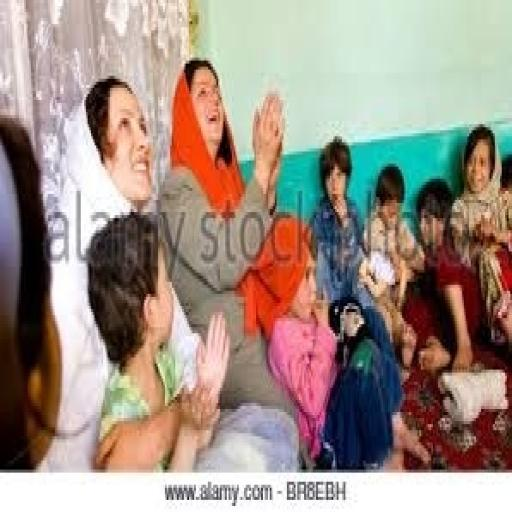clapping: (97, 55, 310, 312)
